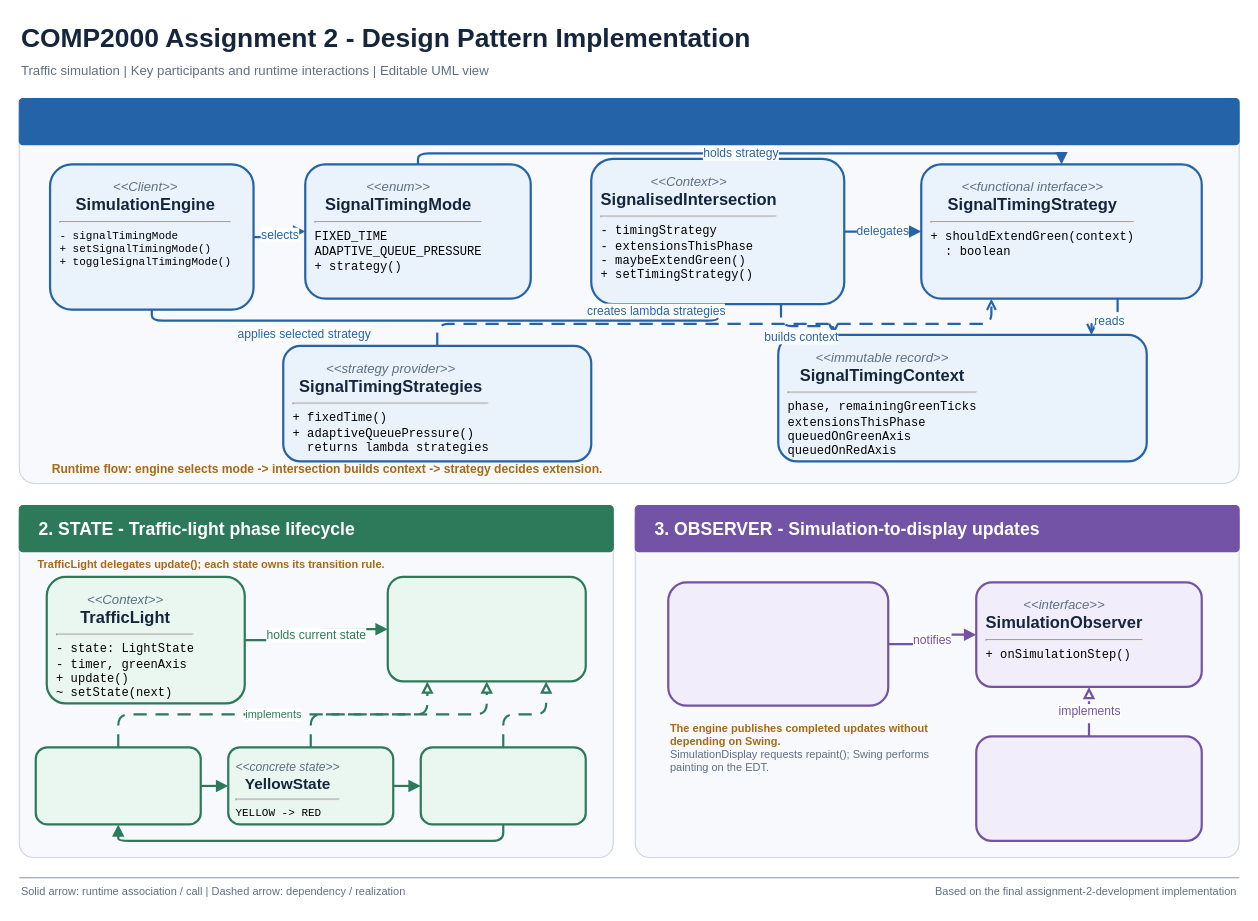
Some shapes in this 1258 by 921 pixel diagram are drawn without their labels. The shapes that lost their labels are listed below. From the top down, each one's centre as x and y in pixels, then its label:
the point at 628,121: 1. STRATEGY - Switchable traffic-signal timing (Assignment 2 focus)
the point at 486,628: <<interface>> LightState + update(light) + getPhase()
the point at 778,643: <<Subject>> SimulationEngine - observers + addObserver() - notifyObservers()
the point at 117,785: <<concrete state>> GreenState GREEN -> YELLOW
the point at 502,785: <<concrete state>> RedState swap axis -> GREEN
the point at 1088,788: <<concrete observer>> SimulationDisplay + onSimulationStep() calls repaint()
